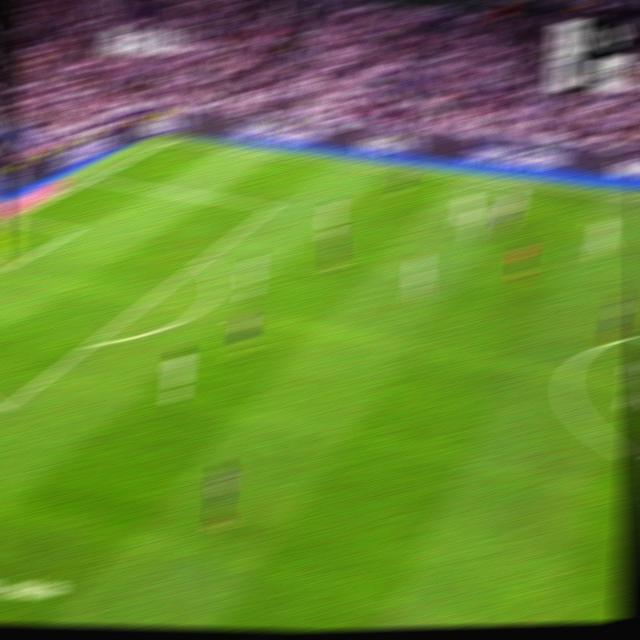bigarea_top_inner: (263, 198, 281, 215)
bigarea_top_outter: (85, 173, 103, 183)
bottom_arc_area_intersection: (82, 333, 102, 351)
corner: (162, 136, 180, 144)
smallarea_top_inner: (68, 226, 83, 236)
top_arc_area_intersection: (192, 252, 211, 267)
